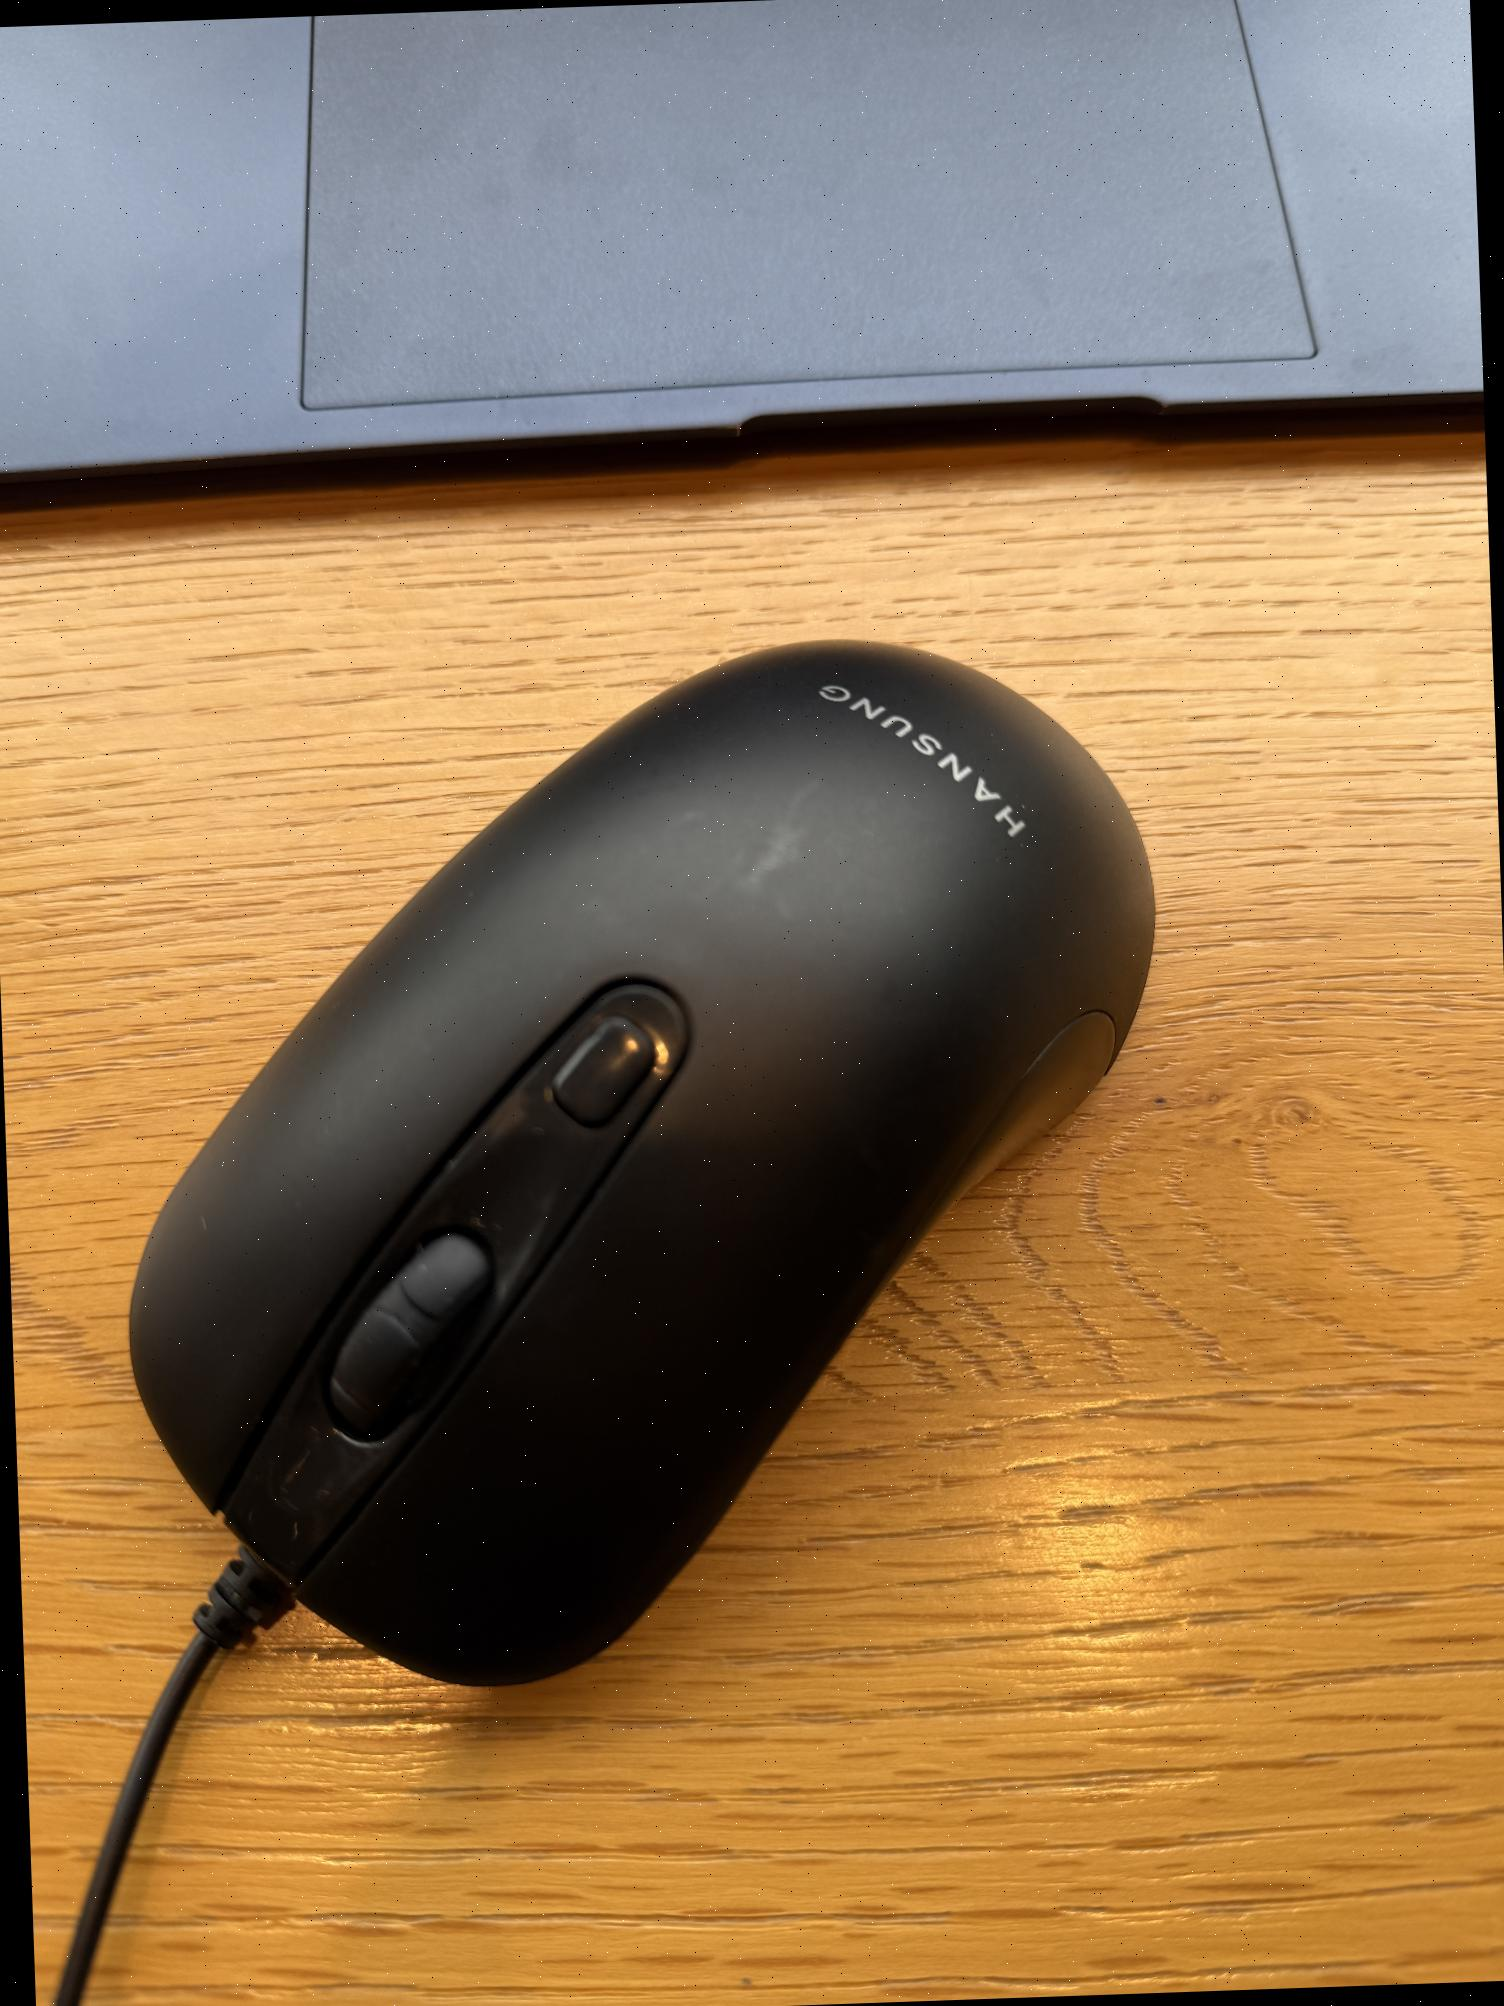front: (93, 624, 1198, 1701)
